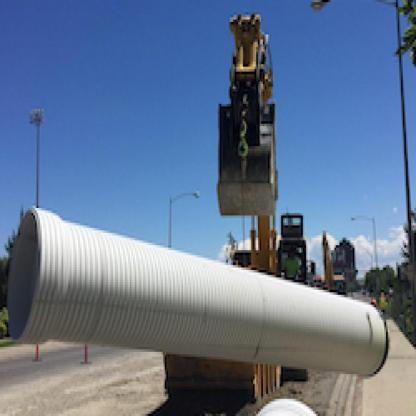PVC: (9, 209, 387, 383)
